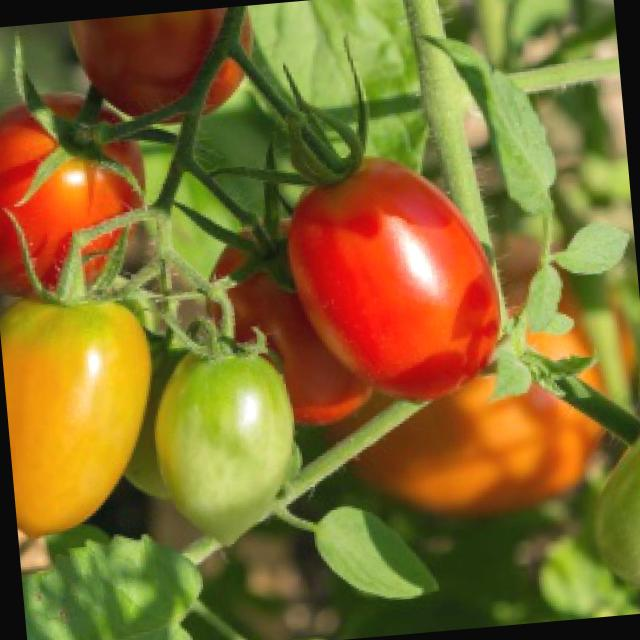tomato: (280, 150, 508, 400), (0, 87, 151, 299)
